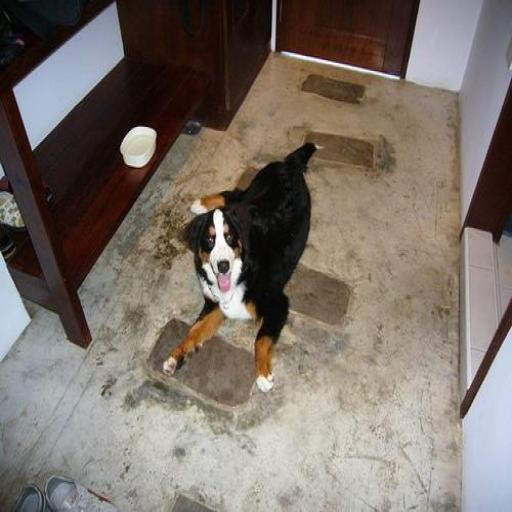dog_face: (186, 204, 252, 298)
